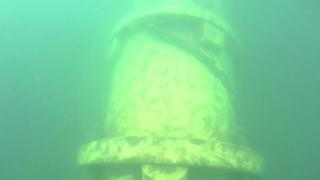pipe: (75, 1, 265, 179)
